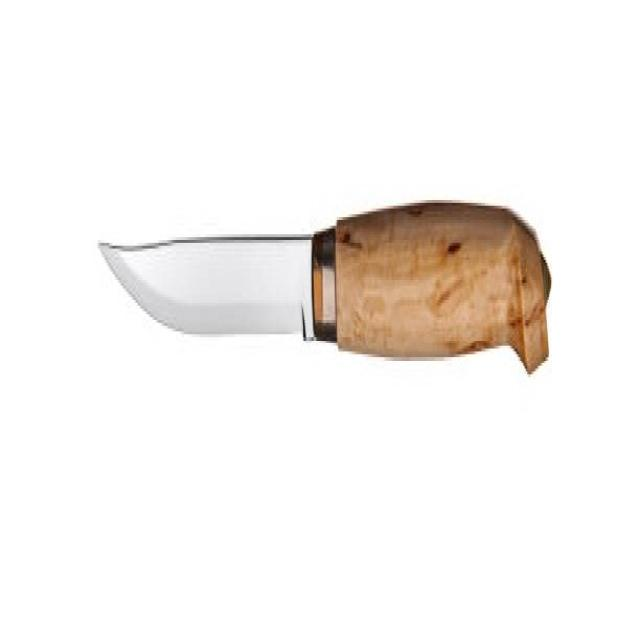knife: (99, 199, 555, 420)
